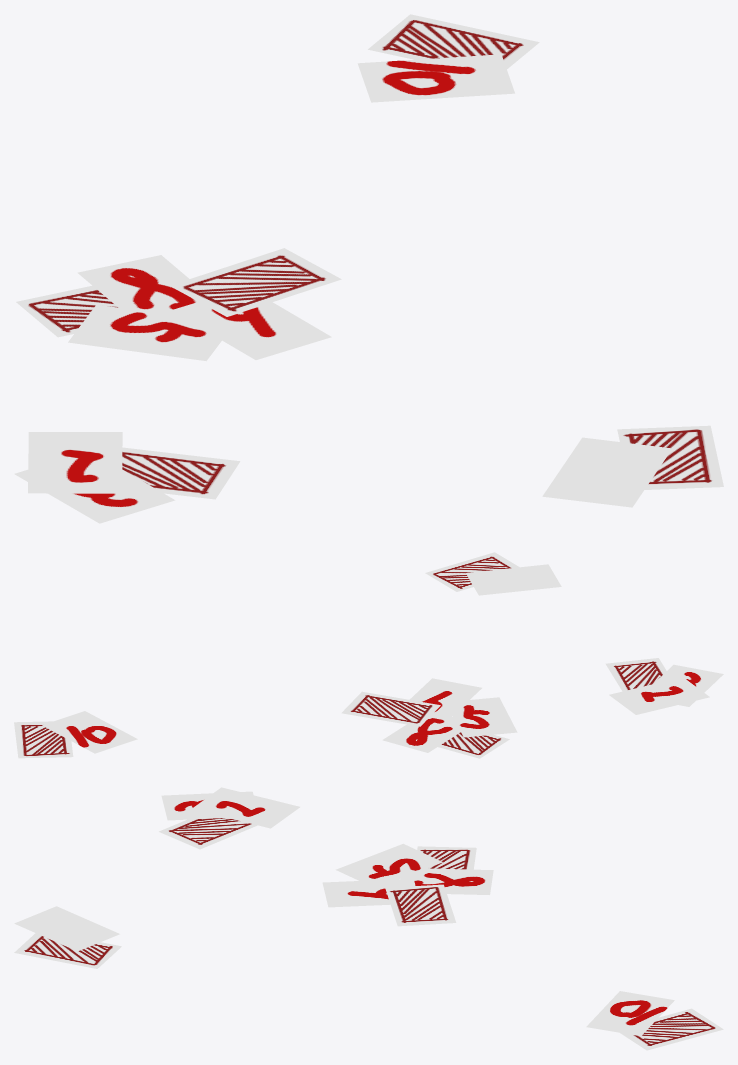
The model's file is BgMd_PlayingCards.fbx.
The picture shows the model from 3 angles, top to bottom: view 1: azimuth 30°, elevation 25°; view 2: azimuth 150°, elevation 25°; view 3: azimuth 270°, elevation 25°; orthographic projection. The views are drawn at different scales.
Parts seen in each view (by area): view 1: BgMd_PlayingCards; view 2: BgMd_PlayingCards; view 3: BgMd_PlayingCards.
Part boxes in pixels (left/top/right/bottom): BgMd_PlayingCards: left=14, top=14, right=723, bottom=523; BgMd_PlayingCards: left=14, top=552, right=723, bottom=758; BgMd_PlayingCards: left=14, top=787, right=723, bottom=1050.
Bounding box in the file's own units: 66.79 × 0.3161 × 76.67.
